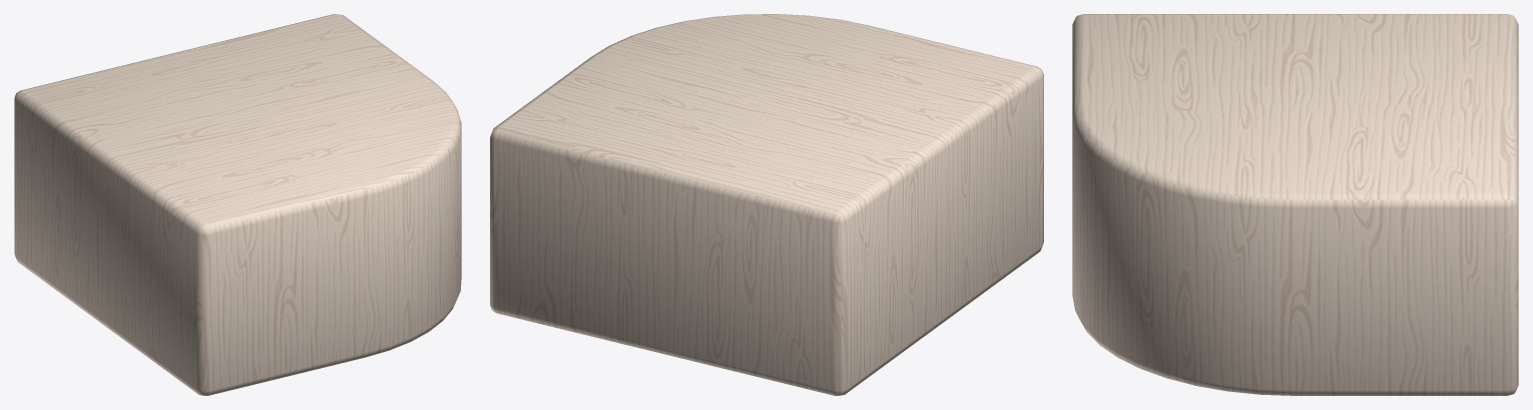
Rendered from Curved_Tile.fbx.
3 renders of one model, left to right at view 1: azimuth 30°, elevation 25°; view 2: azimuth 150°, elevation 25°; view 3: azimuth 270°, elevation 25°, orthographic. The views are drawn at different scales.
Visible parts, largest first — view 1: Cube; view 2: Cube; view 3: Cube.
Part boxes in pixels (x1,y1,x2,y2): Cube: (14, 14, 461, 395); Cube: (490, 14, 1043, 395); Cube: (1072, 14, 1518, 395).
Size of the model in its own units: 196 by 98 by 196.
